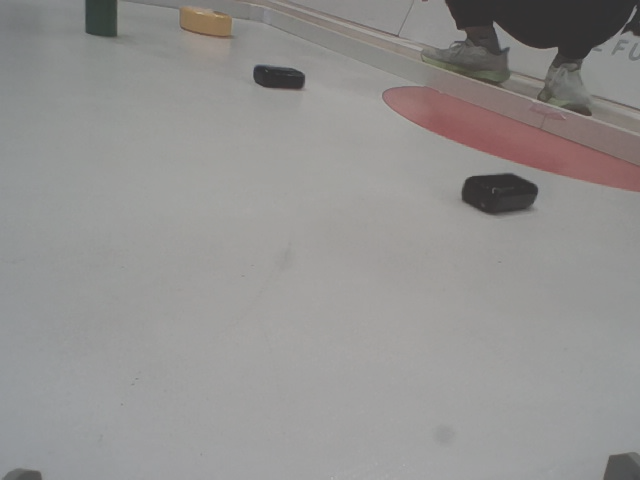black: (462, 168, 541, 216), (253, 63, 307, 90)
yellow: (174, 6, 236, 37)
zhuzi: (80, 1, 119, 39)
